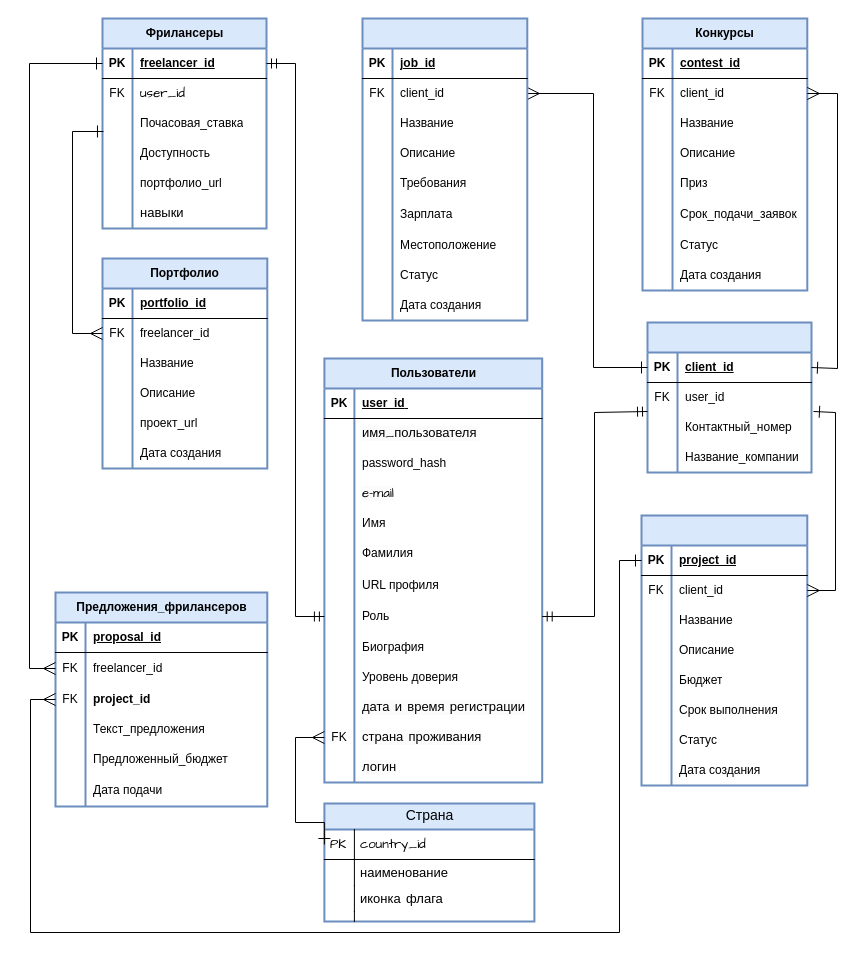
This 868x963 diagram has some shape labels left out. Each missing label, with the box of its shape:
Вакансии: (361, 17, 528, 321)
Заказы: (640, 514, 808, 786)
Клиенты: (646, 321, 812, 473)
